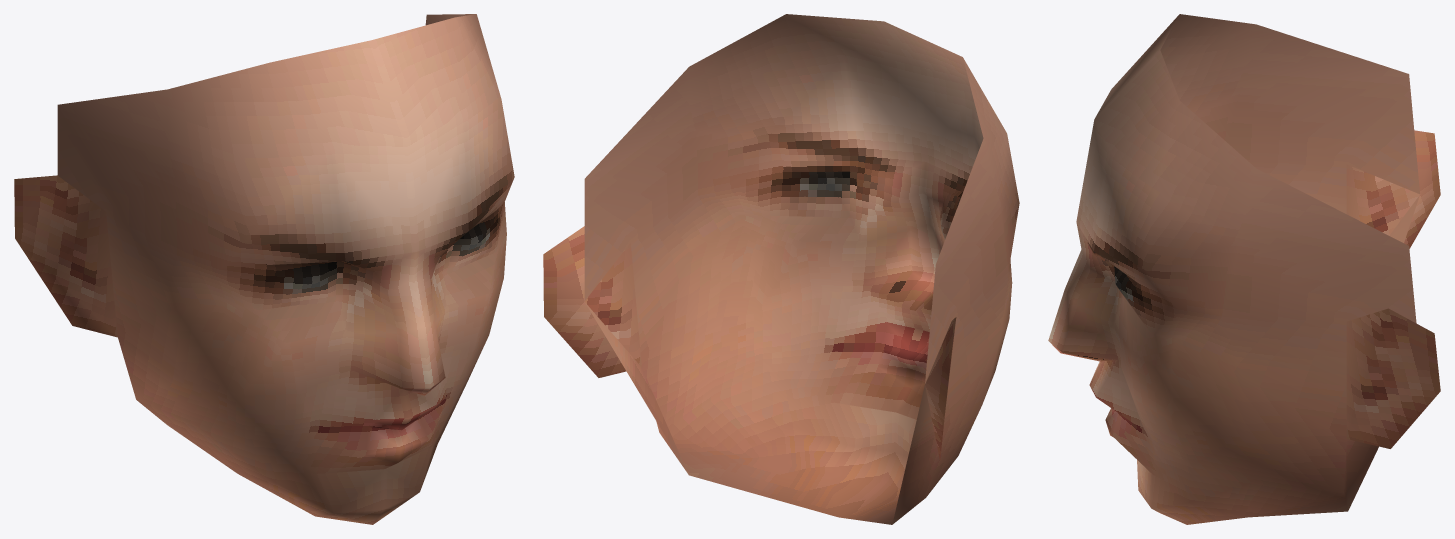
The picture shows the model from 3 angles, left to right: view 1: azimuth 30°, elevation 25°; view 2: azimuth 150°, elevation 25°; view 3: azimuth 270°, elevation 25°; orthographic projection. The views are drawn at different scales.
Visible parts, largest first — view 1: editpl_m-0000-162, editpl_m-0000-161; view 2: editpl_m-0000-162, editpl_m-0000-161; view 3: editpl_m-0000-162, editpl_m-0000-161.
Boxes of the visible parts, x1=… form: editpl_m-0000-162: x1=14, y1=14, x2=514, y2=395; editpl_m-0000-161: x1=118, y1=335, x2=488, y2=524; editpl_m-0000-162: x1=543, y1=14, x2=1019, y2=460; editpl_m-0000-161: x1=585, y1=272, x2=981, y2=524; editpl_m-0000-162: x1=1048, y1=14, x2=1440, y2=448; editpl_m-0000-161: x1=1061, y1=195, x2=1419, y2=524.
Size of the model in its own units: 17.18 by 18.68 by 14.26.
1 material, 1 textured.
